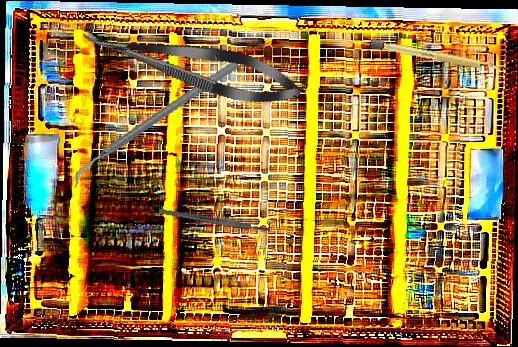Chopper: (54, 58, 257, 189)
Micro Scissor: (76, 12, 307, 116)
Scalpel Handle: (369, 38, 500, 74), (158, 207, 271, 234)
